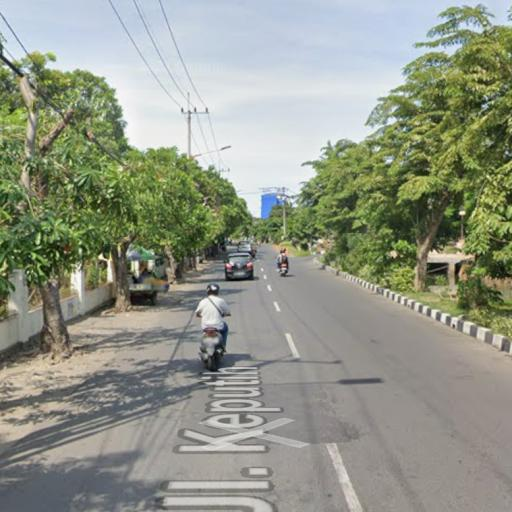Helmet: (207, 284, 219, 295), (281, 249, 286, 253)
Motor: (199, 328, 223, 371), (279, 262, 288, 277)
